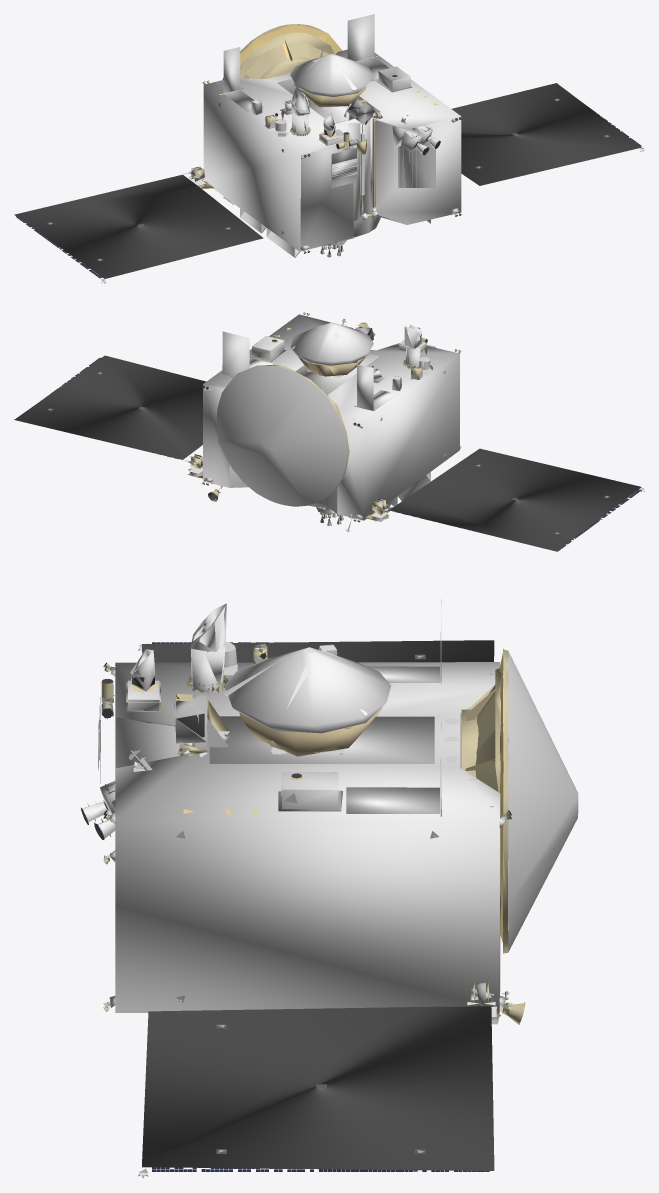
File: osirisrex_lod1.glb
The picture shows the model from 3 angles, top to bottom: view 1: azimuth 30°, elevation 25°; view 2: azimuth 150°, elevation 25°; view 3: azimuth 270°, elevation 25°; orthographic projection. The views are drawn at different scales.
Parts seen in each view (by area): view 1: osirisrex_lod1; view 2: osirisrex_lod1; view 3: osirisrex_lod1.
Boxes of the visible parts, x1=… form: osirisrex_lod1: x1=14, y1=14, x2=644, y2=283; osirisrex_lod1: x1=14, y1=312, x2=644, y2=551; osirisrex_lod1: x1=80, y1=599, x2=578, y2=1178.
Size of the model in its own units: 8.31 by 2.88 by 3.29.
